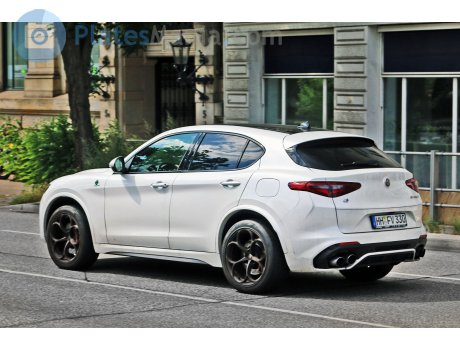License Plates: (378, 216, 408, 225)
